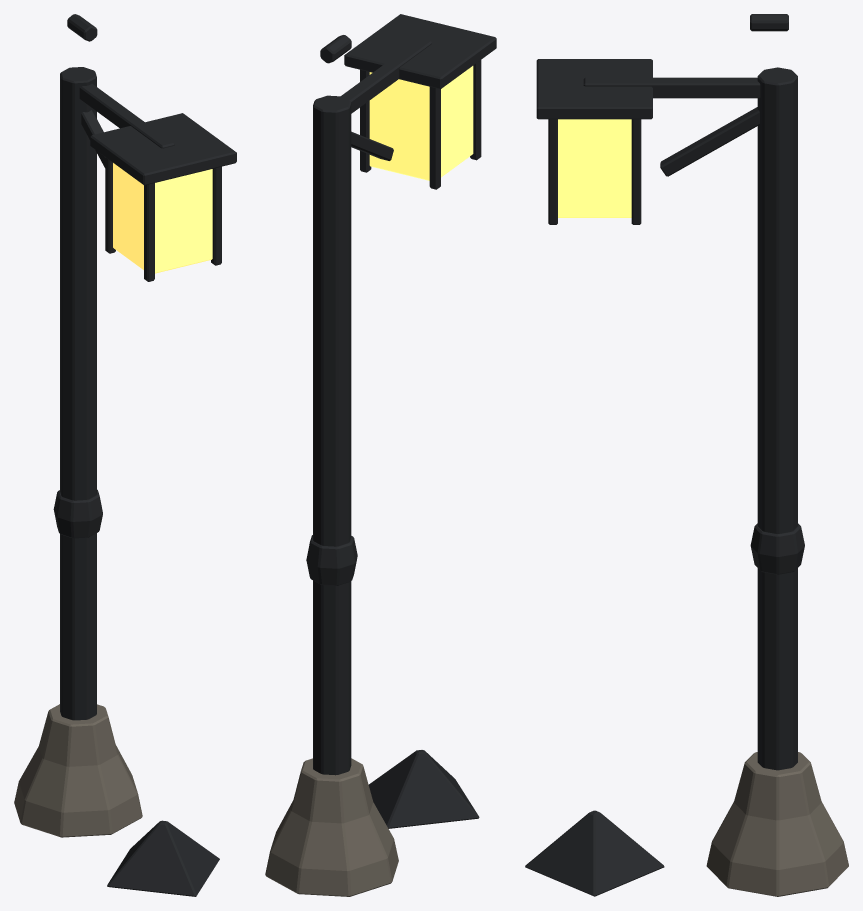
The model's file is V_Reverbere.glb.
3 views of the same model, side by side, from view 1: azimuth 30°, elevation 25°; view 2: azimuth 150°, elevation 25°; view 3: azimuth 270°, elevation 25° (orthographic). The views are drawn at different scales.
Parts seen in each view (by area): view 1: V_Reverbere; view 2: V_Reverbere; view 3: V_Reverbere.
Boxes of the visible parts, x1=… form: V_Reverbere: x1=14, y1=14, x2=236, y2=896; V_Reverbere: x1=265, y1=14, x2=496, y2=896; V_Reverbere: x1=525, y1=14, x2=848, y2=896.
Bounding box in the file's own units: 0.513 × 3.39 × 1.17.
